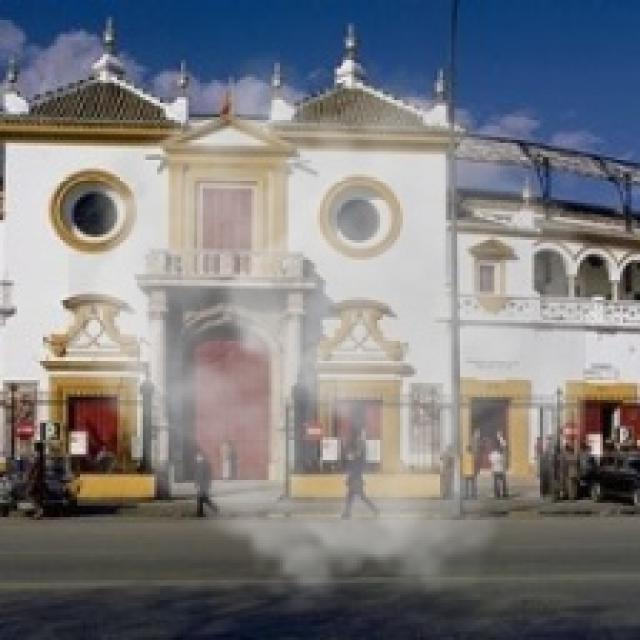smoke: (69, 51, 586, 614)
